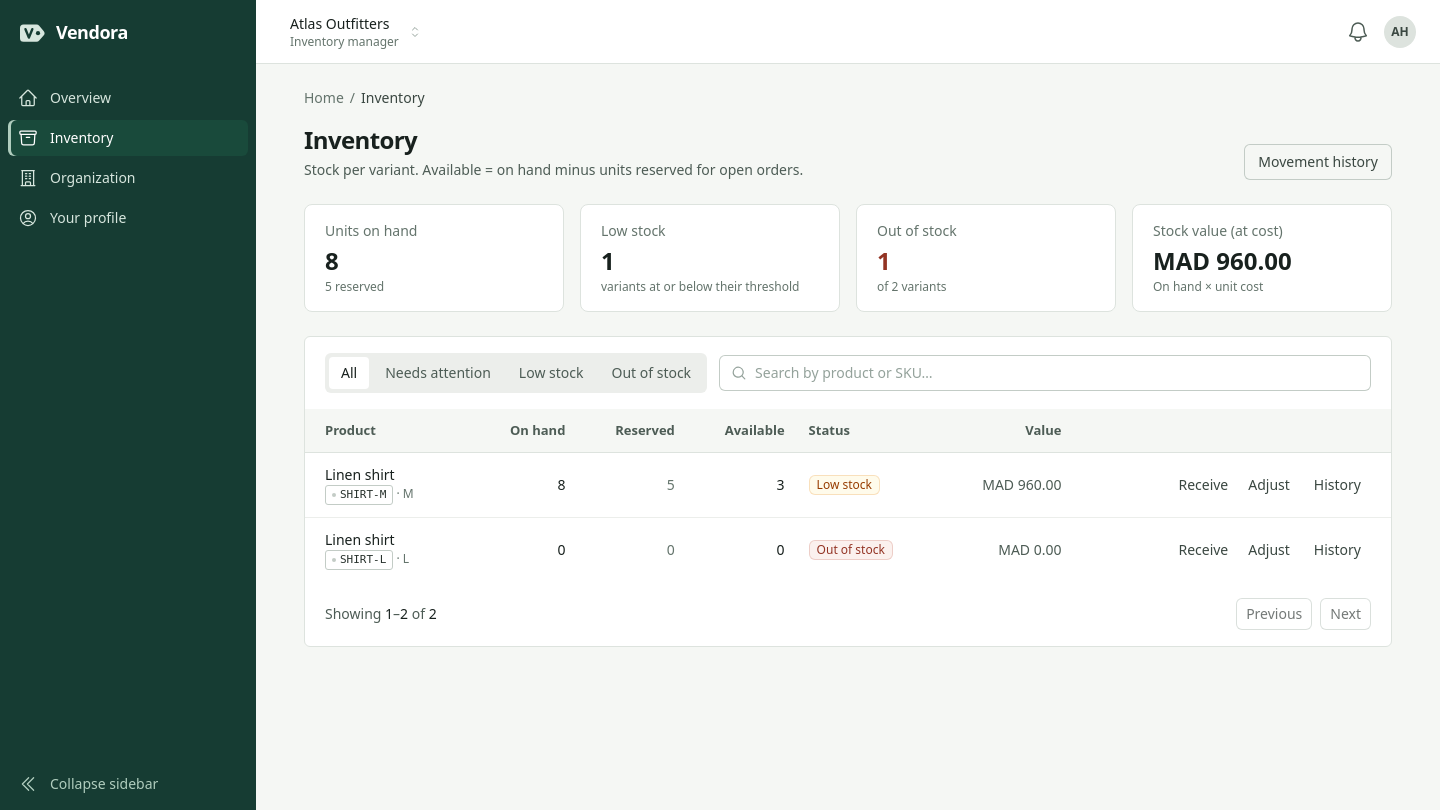
Test: inventory page › "Other" requires a note before anything is sent
This screenshot has width=1440, height=810.
Click the button with aria-label "Adjust stock for SHIRT-M" at (1269, 485), box [1238, 469, 1300, 501]
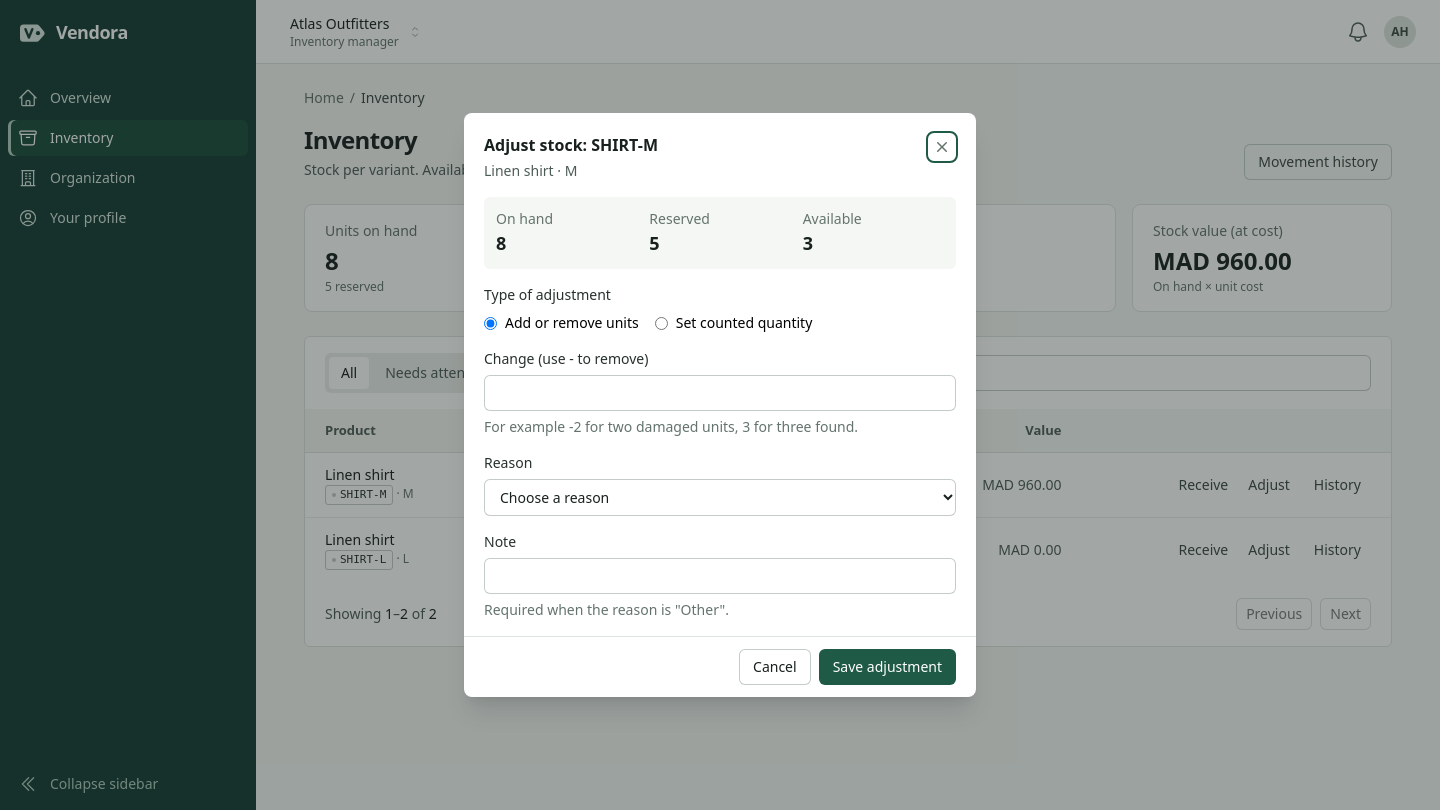
Type "-1" into the field labelled "Change (use - to remove)" at (720, 393), box [484, 375, 956, 411]
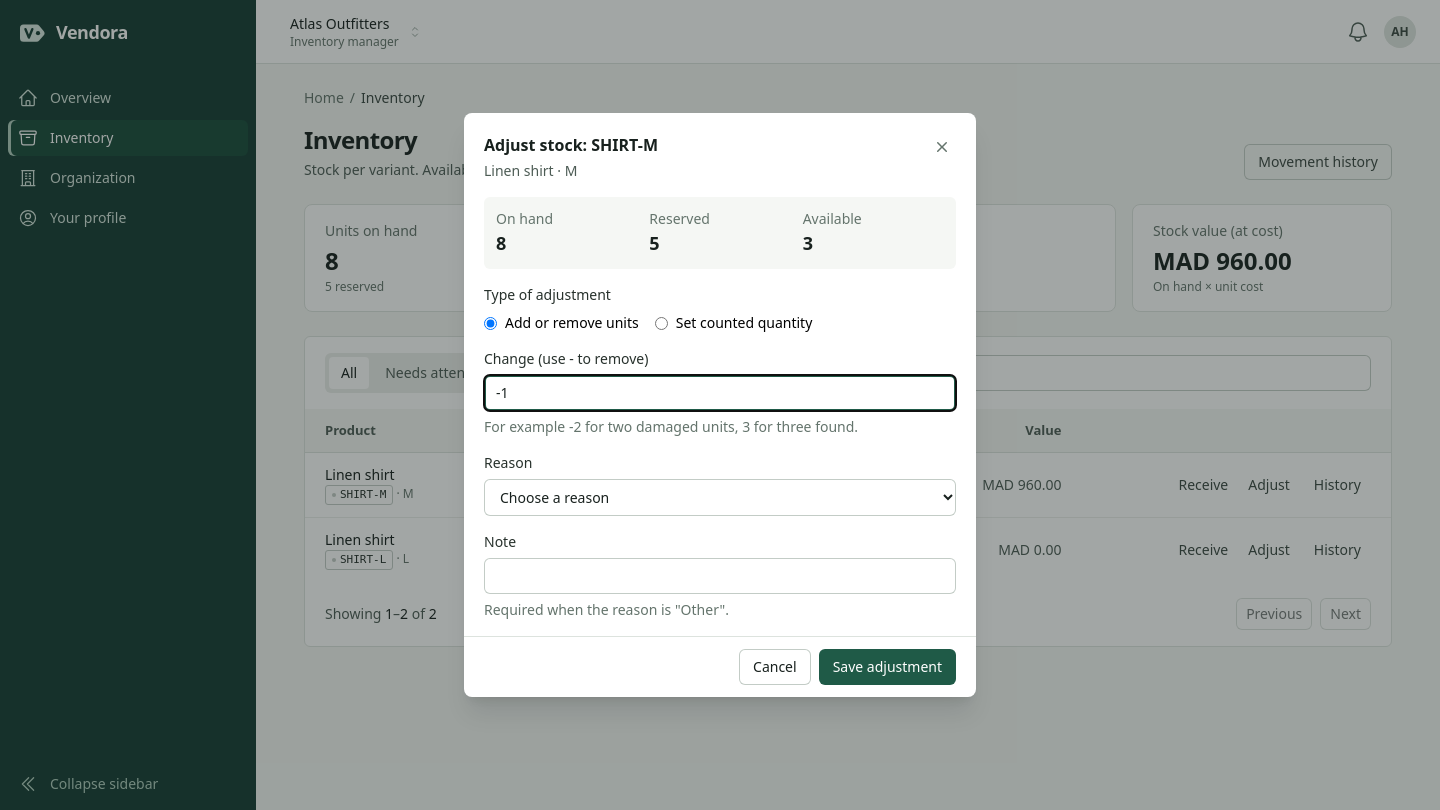
Select "Other (explain in the note)" in the dropdown labelled "Reason" at (720, 498), box [484, 479, 956, 516]
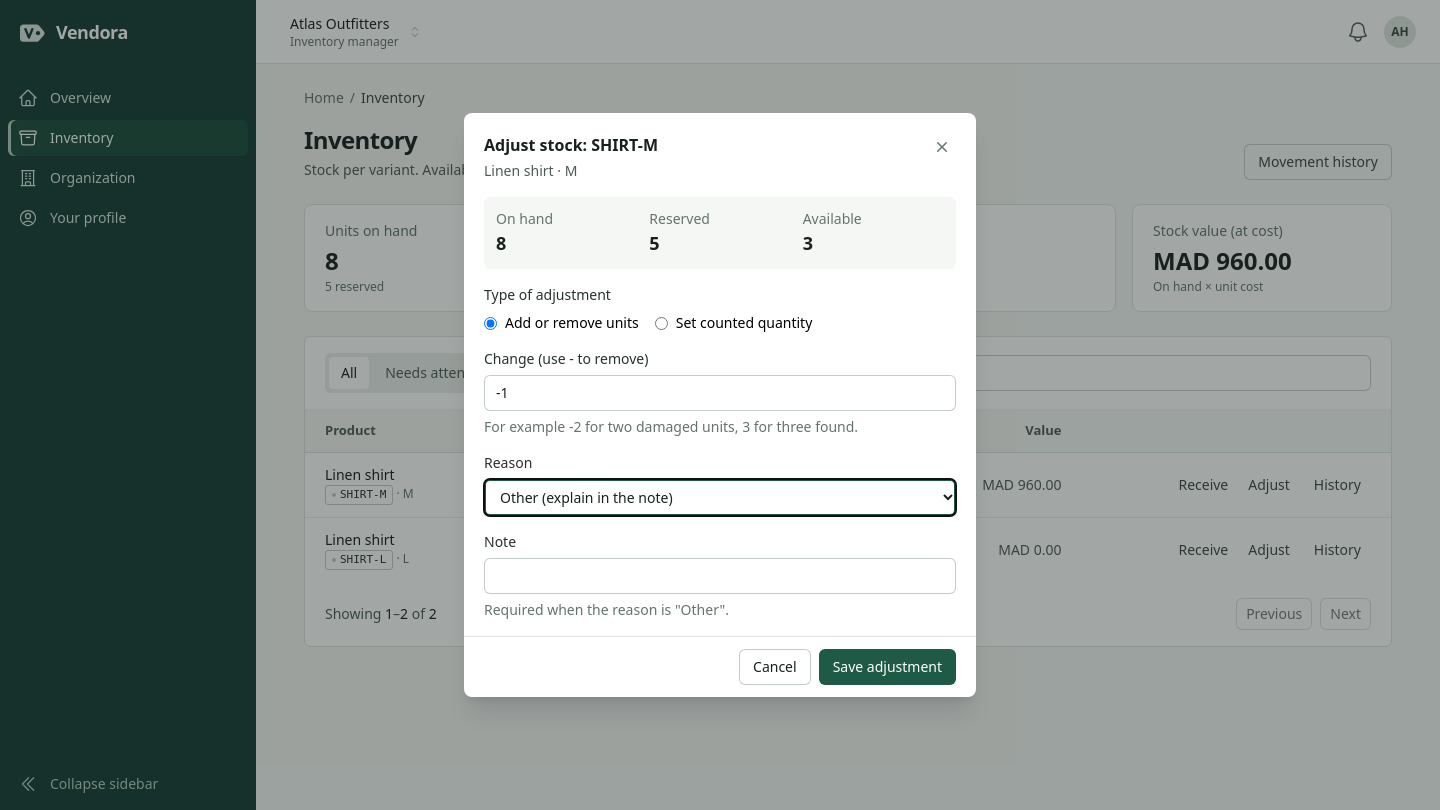
Click the button "Save adjustment" at (887, 667), box [819, 649, 956, 685]
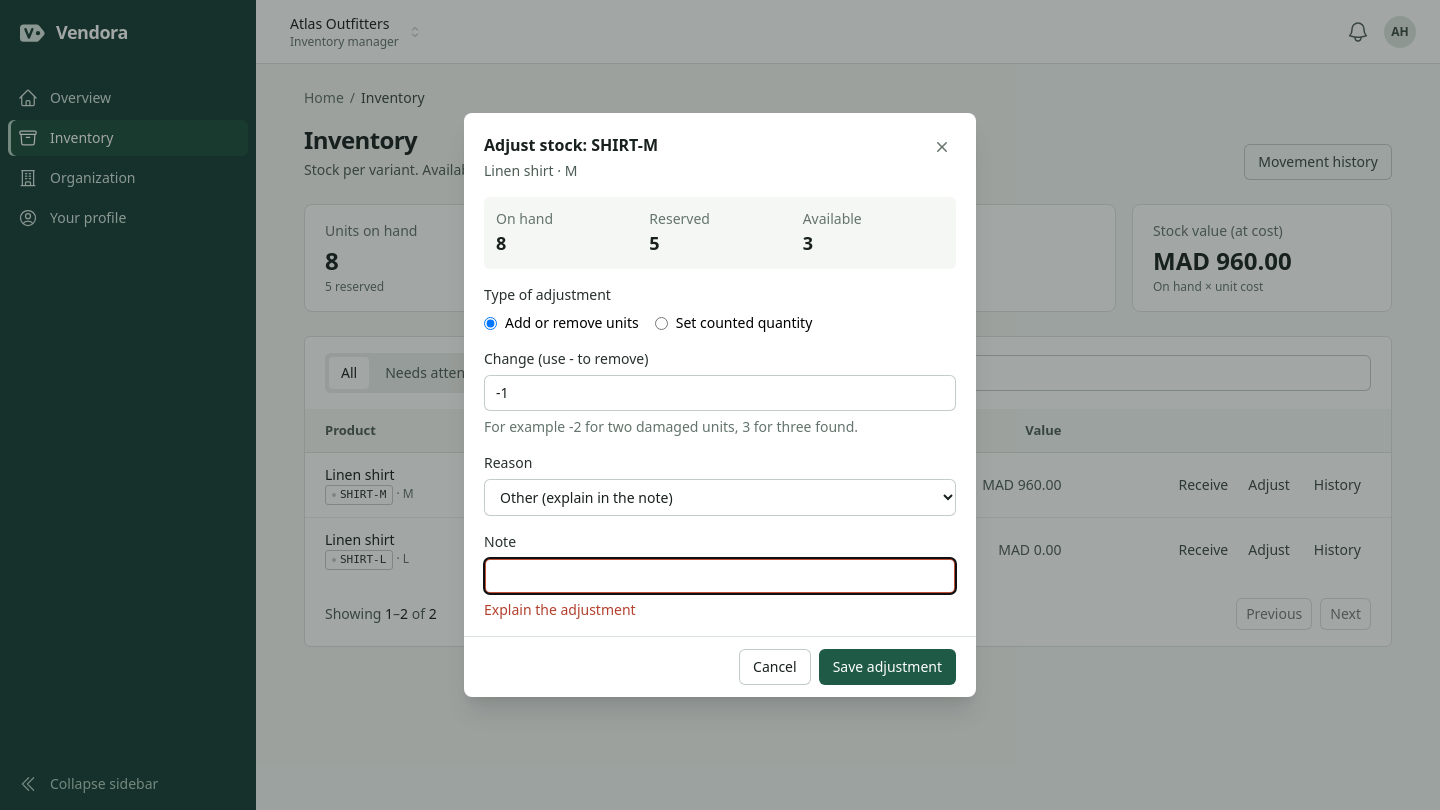
Check: the text "Explain the adjustment" is shown, box [484, 600, 636, 619]
